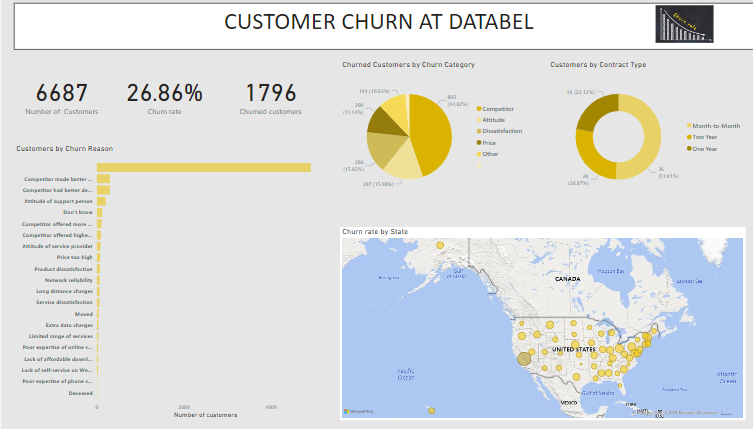

Layout of this report page (visuals, bound fields, positions):
{"tool":"powerbi","page":{"name":"Overview ","canvas":[1670,960],"ordinal":0},"visuals":[{"type":"card","fields":{"Values":["DAX Measures.Number of customers"]},"box":[24.1,144.6,210.4,149],"z":0},{"type":"card","fields":{"Values":["DAX Measures.Churn rate"]},"box":[258.6,144.6,197.2,149],"z":1},{"type":"card","fields":{"Values":["DAX Measures.Number of churned customers"]},"box":[477.8,144.6,227.9,151.2],"z":2},{"type":"textbox","box":[24.1,17.5,1645.9,103],"z":3},{"type":"pieChart","title":"Churned Customers by Churn Category","fields":{"Y":["DAX Measures.Number of churned customers"],"Category":["Databel - Data.Churn Category"]},"box":[745.1,144.6,416.4,320],"z":4},{"type":"clusteredBarChart","title":"Customers by Churn Reason","fields":{"Y":["DAX Measures.Number of customers"],"Category":["Databel - Data.Churn Reason"]},"box":[24.1,328.7,681.6,611.5],"z":5},{"type":"donutChart","title":"Customers by Contract Type","fields":{"Category":["Databel - Data.Contract Type"],"Y":["DAX Measures.Number of customers"]},"box":[1203.2,144.6,438.3,320],"z":6},{"type":"map","fields":{"Category":["Databel - Data.State"],"Size":["DAX Measures.Churn rate"]},"box":[745.1,512.8,896.4,427.4],"z":7},{"type":"image","box":[1422.6,17.7,165.7,92.8],"z":8}]}

Visuals, with their boxes in screenshot pixels (x1, y1, x2, y2), scaled from the page's 1670x960 canvas onto the 753x429 screenshot:
card - DAX Measures.Number of customers: <box>11,65,106,131</box>
card - DAX Measures.Churn rate: <box>117,65,206,131</box>
card - DAX Measures.Number of churned customers: <box>215,65,318,132</box>
textbox: <box>11,8,752,54</box>
"Churned Customers by Churn Category" pieChart: <box>336,65,524,208</box>
"Customers by Churn Reason" clusteredBarChart: <box>11,147,318,420</box>
"Customers by Contract Type" donutChart: <box>543,65,740,208</box>
map - Databel - Data.State x DAX Measures.Churn rate: <box>336,229,740,420</box>
image: <box>641,8,716,49</box>
